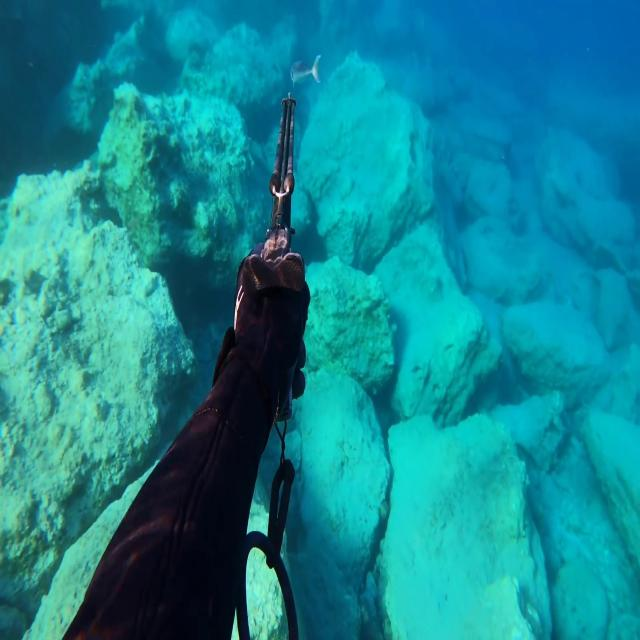Balon Baligi: (290, 55, 321, 88)
